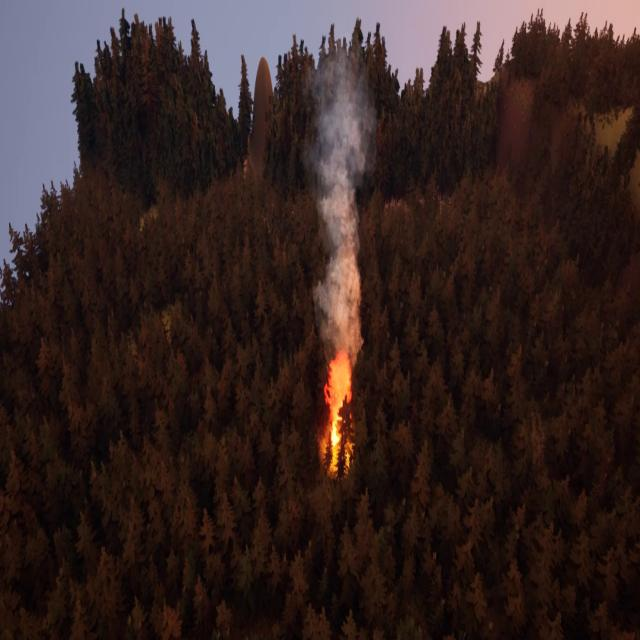fire: (318, 351, 353, 471)
smoke: (304, 42, 371, 349)
